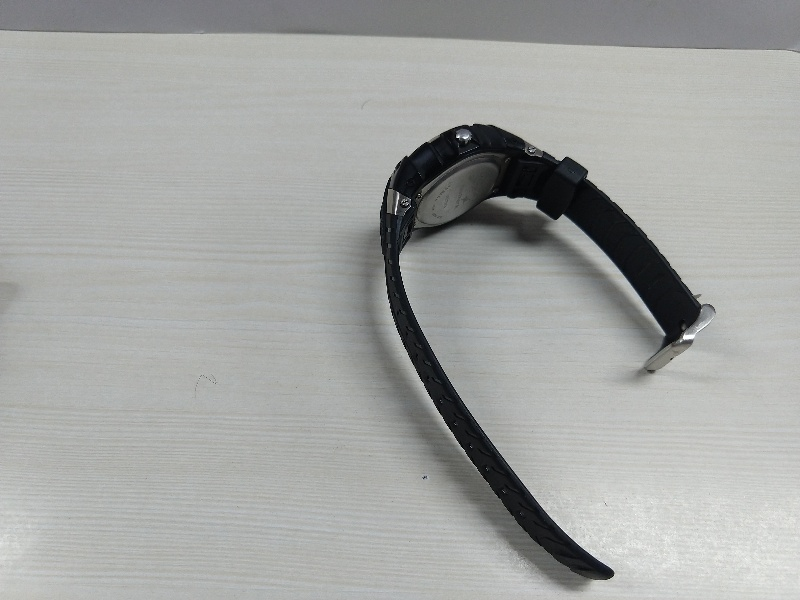watch: (373, 117, 735, 588)
